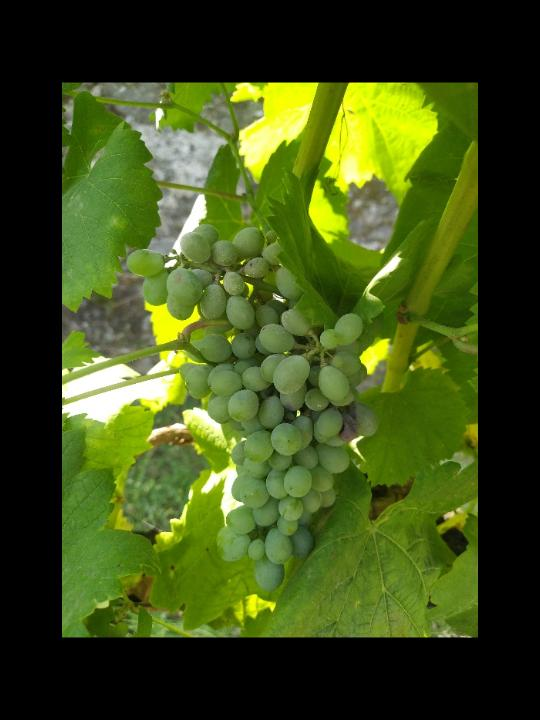grape: (123, 223, 386, 600)
